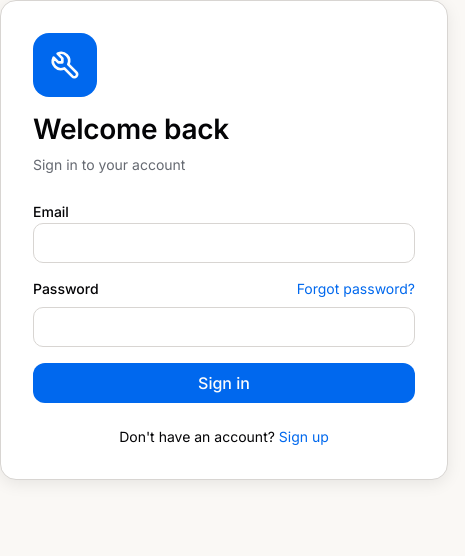
Test: LoginPage › shows validation errors for invalid input
The image size is (465, 556).
Click the button "Sign in". click: (224, 383)
box: x1=33 y1=363 x2=415 y2=403
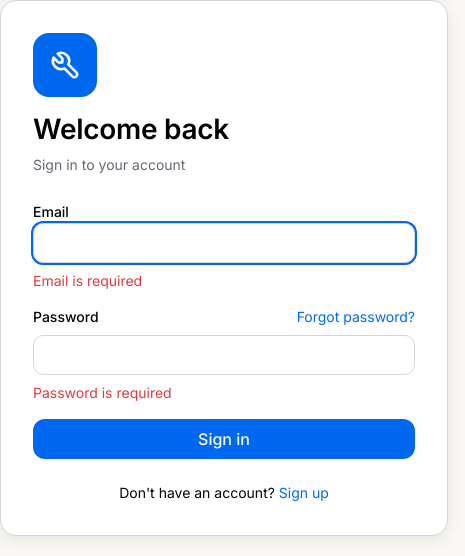
Result: the text "Email is required" is shown at x1=33 y1=272 x2=142 y2=289
Result: the text "Password is required" is shown at x1=33 y1=384 x2=172 y2=401
